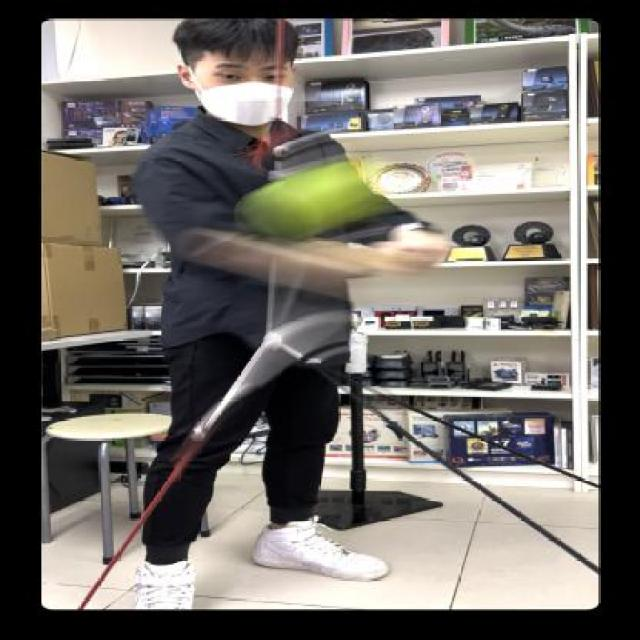baseball: (240, 161, 386, 233)
